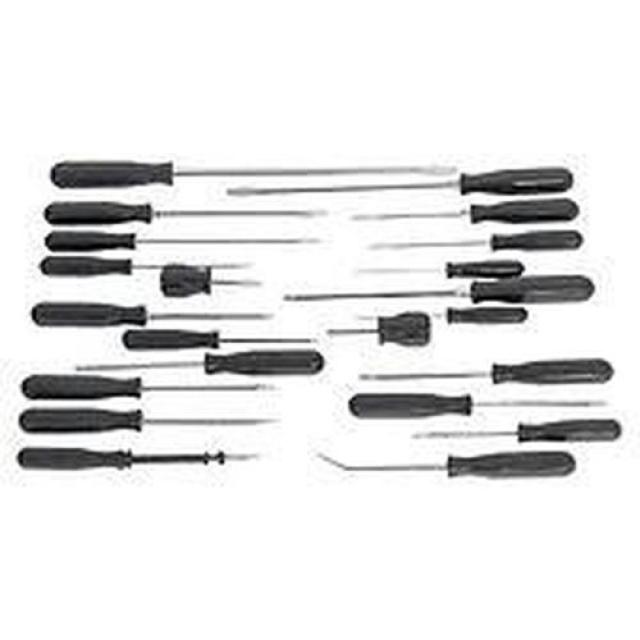screw driver: (55, 134, 457, 204), (11, 358, 288, 410), (40, 211, 338, 259), (148, 251, 288, 317), (325, 300, 440, 368), (342, 250, 528, 278)
